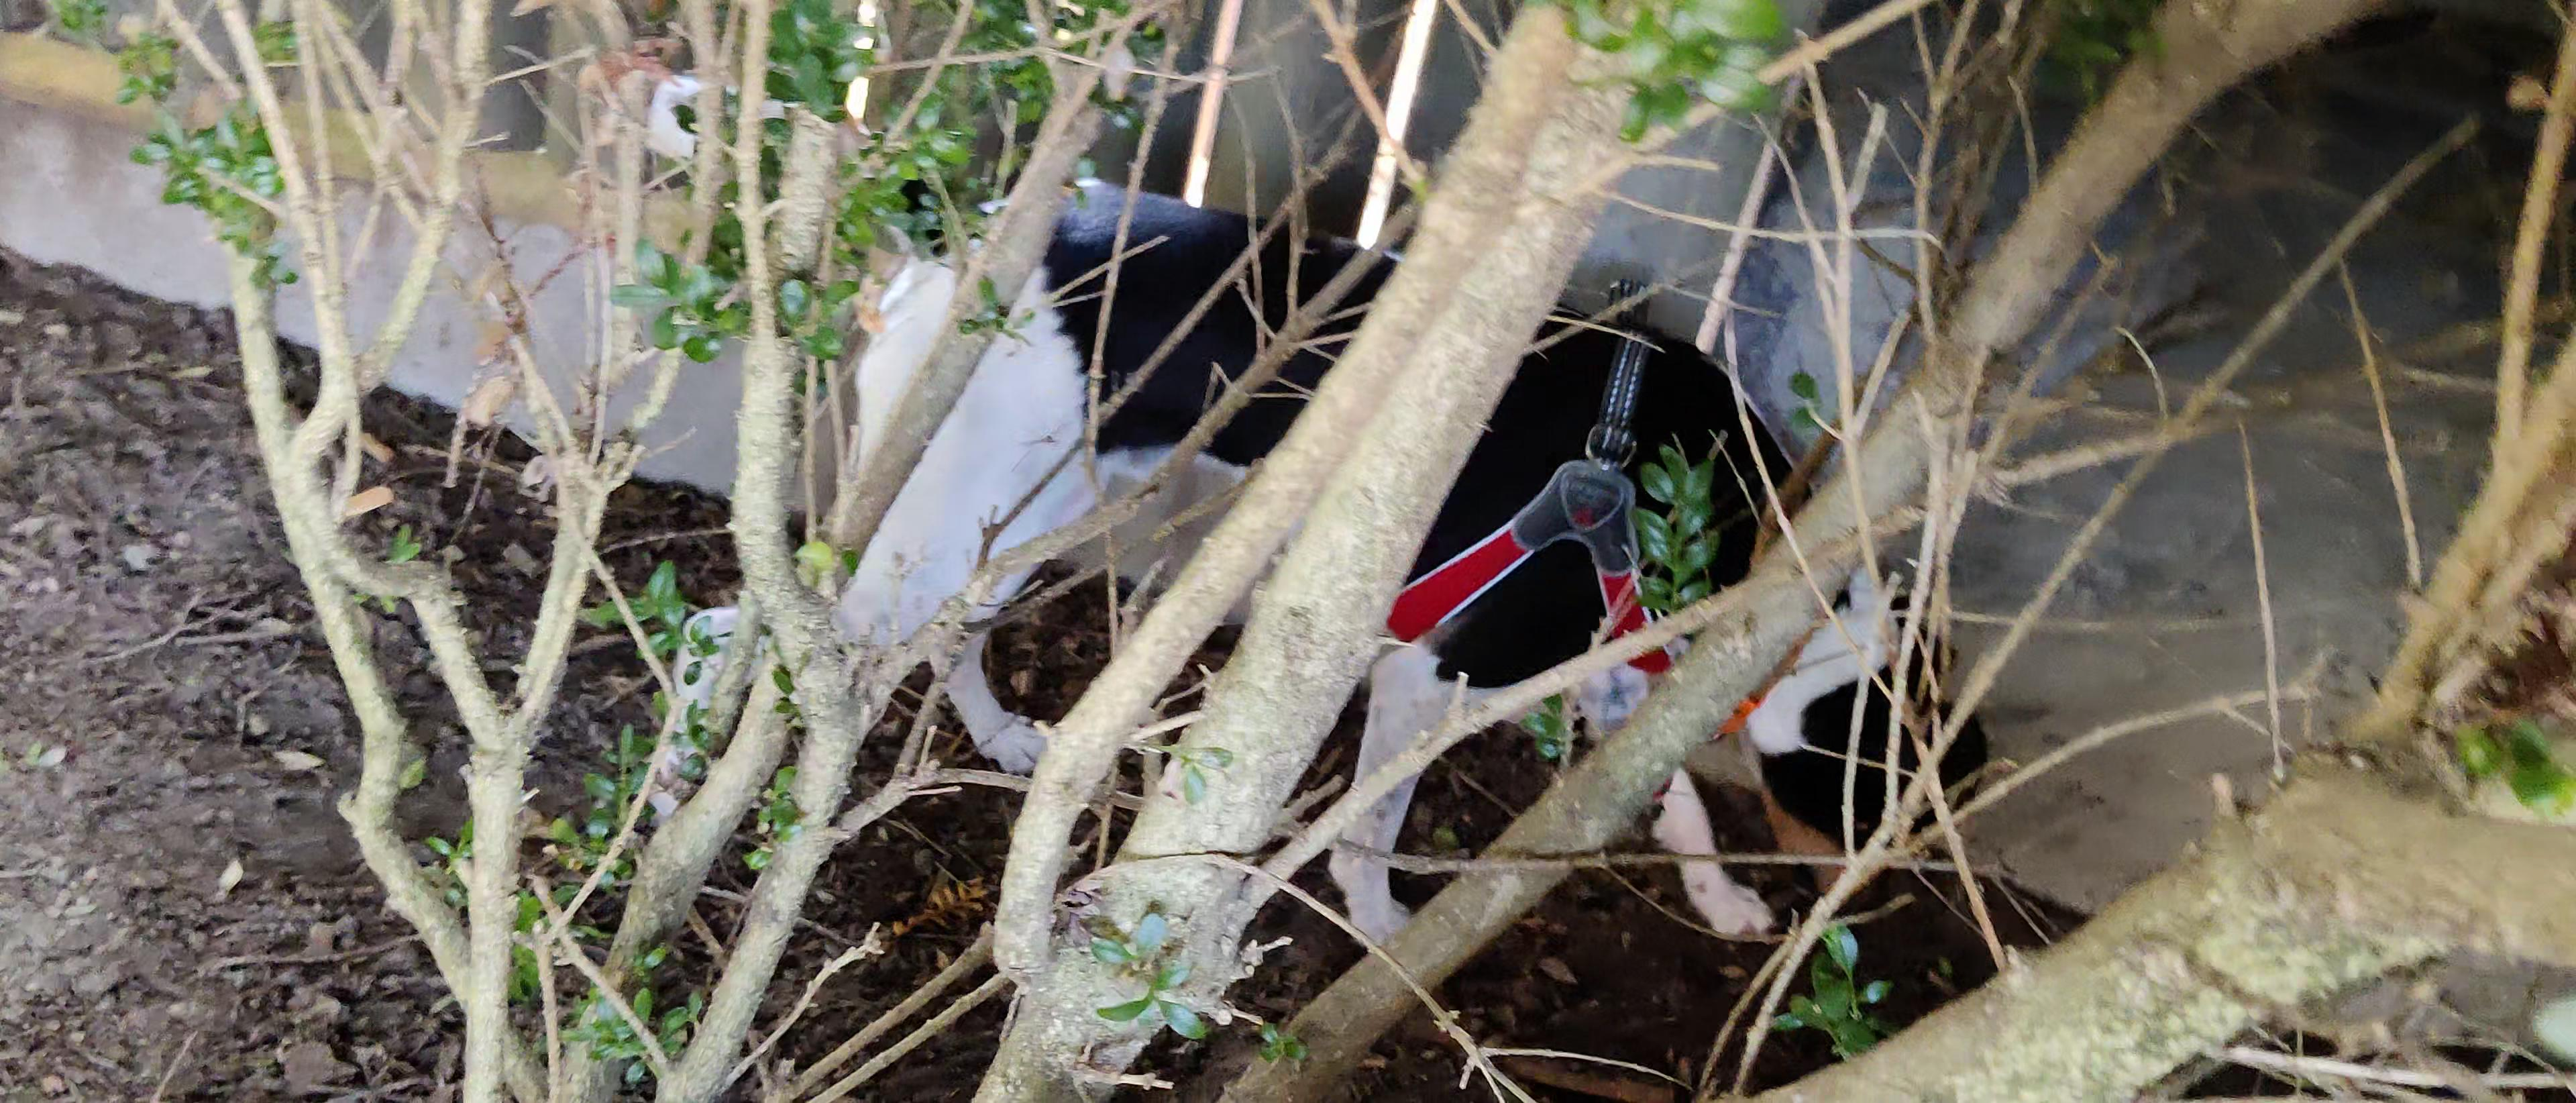Dog: (577, 62, 1999, 973)
